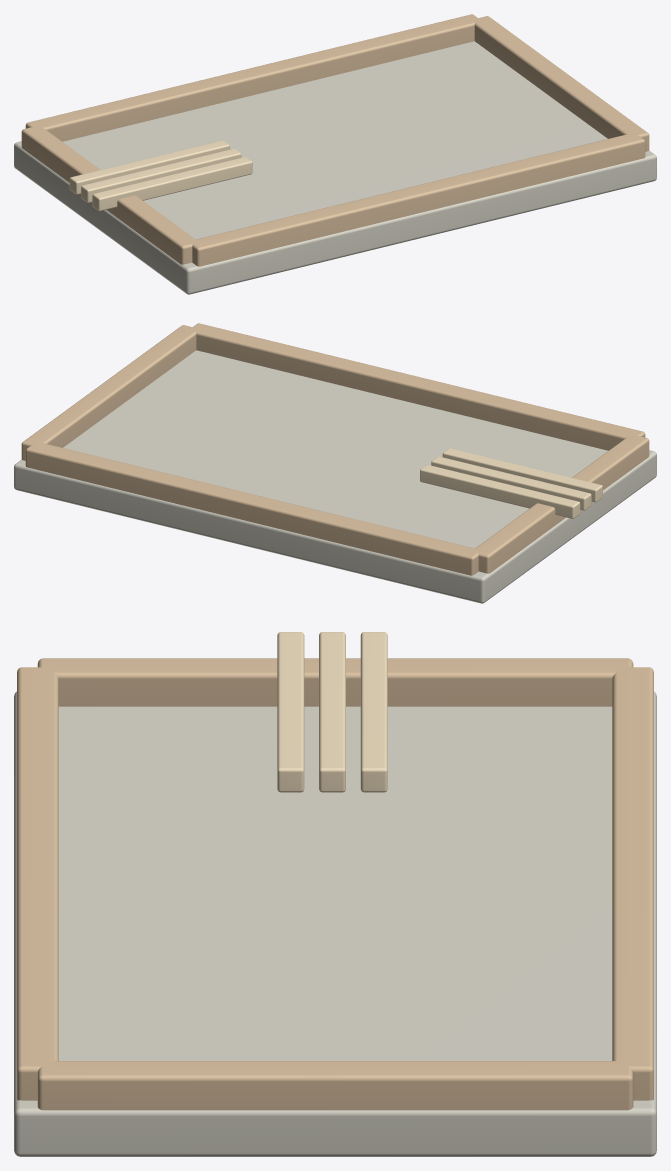
The model's file is shelter-foundation.glb.
3 views of the same model, one above another, from view 1: azimuth 30°, elevation 25°; view 2: azimuth 150°, elevation 25°; view 3: azimuth 270°, elevation 25° (orthographic). The views are drawn at different scales.
Visible parts, largest first — view 1: Rounded stone footing, Sill beam, Sill beam.001, Sill beam.003, Sill beam.002, Staged lumber, Staged lumber.001, Staged lumber.002; view 2: Rounded stone footing, Sill beam.001, Sill beam, Sill beam.003, Sill beam.002, Staged lumber.002, Staged lumber, Staged lumber.001; view 3: Rounded stone footing, Sill beam.003, Sill beam.002, Sill beam.001, Sill beam, Staged lumber, Staged lumber.002, Staged lumber.001.
Part boxes in pixels (box(x1,y1,x2,y2)): Rounded stone footing: box(14, 41, 656, 294); Sill beam: box(191, 133, 645, 266); Sill beam.001: box(25, 14, 480, 141); Sill beam.003: box(473, 16, 649, 151); Sill beam.002: box(21, 126, 197, 264); Staged lumber: box(92, 157, 252, 211); Staged lumber.001: box(81, 148, 241, 202); Staged lumber.002: box(69, 140, 229, 194); Rounded stone footing: box(14, 350, 656, 603); Sill beam.001: box(25, 442, 479, 575); Sill beam: box(190, 323, 645, 450); Sill beam.003: box(21, 325, 197, 460); Sill beam.002: box(473, 435, 649, 573); Staged lumber.002: box(420, 464, 580, 518); Staged lumber: box(442, 448, 602, 502); Staged lumber.001: box(431, 456, 591, 510); Rounded stone footing: box(14, 691, 656, 1156); Sill beam.003: box(37, 1061, 633, 1110); Sill beam.002: box(37, 658, 633, 706); Sill beam.001: box(612, 667, 653, 1100); Sill beam: box(17, 667, 58, 1100); Staged lumber: box(277, 632, 304, 792); Staged lumber.002: box(360, 632, 387, 792); Staged lumber.001: box(319, 632, 345, 792).
Bounding box in the file's own units: 3.48 × 0.335 × 2.16.
